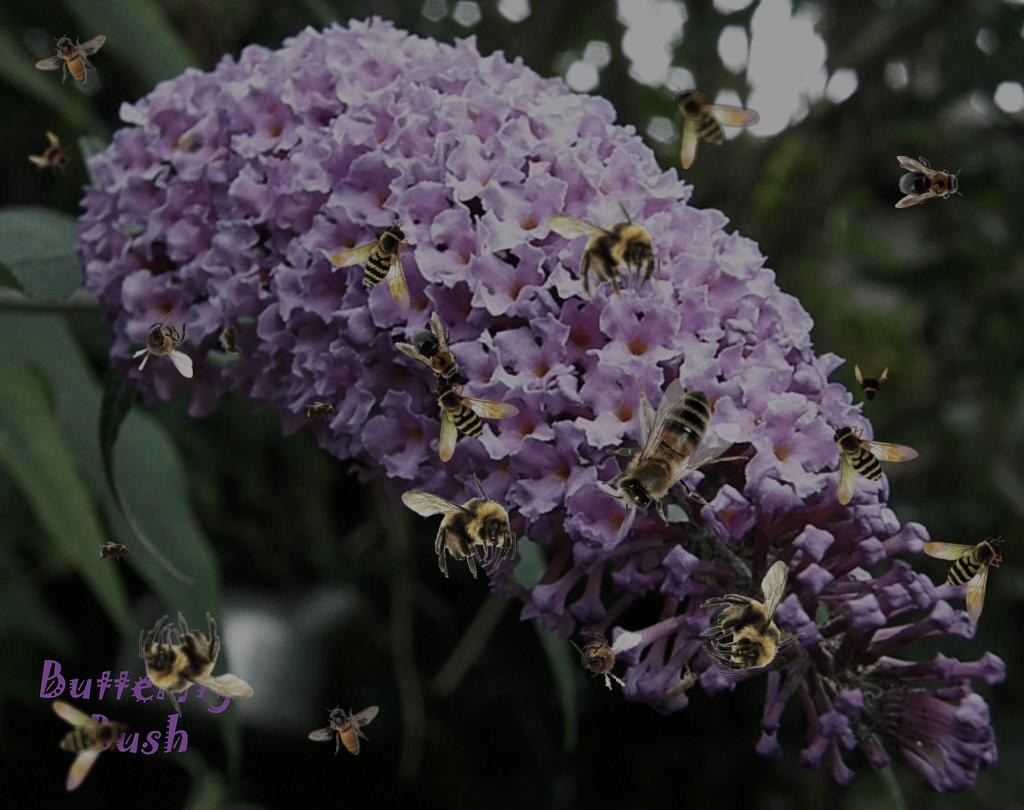Bee: (582, 378, 749, 540), (21, 691, 133, 805), (326, 218, 436, 332), (699, 560, 806, 675), (545, 195, 660, 302), (139, 611, 254, 718), (401, 472, 516, 579), (393, 309, 479, 395), (673, 87, 761, 169), (831, 423, 919, 505), (432, 380, 520, 462), (923, 535, 1005, 623), (562, 621, 643, 695), (132, 308, 193, 378), (22, 126, 84, 188), (308, 705, 379, 755), (35, 34, 106, 84), (895, 156, 963, 208), (847, 363, 891, 407), (219, 319, 245, 361), (95, 541, 135, 563), (302, 401, 342, 423)
